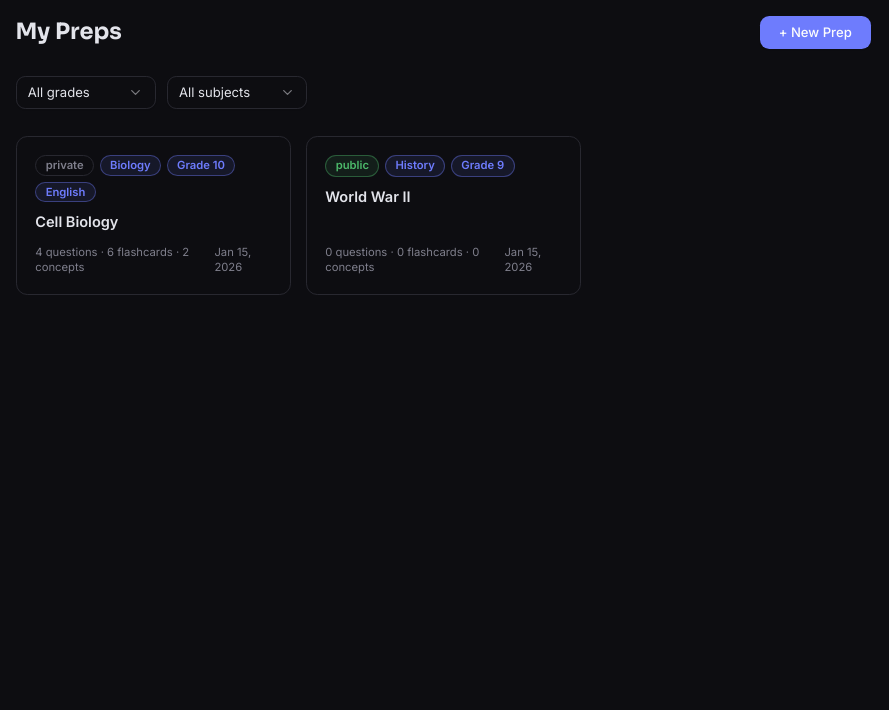
it: MyPreps › filters by discipline
The width and height of the screenshot is (889, 710).
Click the dropdown named "filter by subject".
click(237, 92)  # box [167,76,307,109]
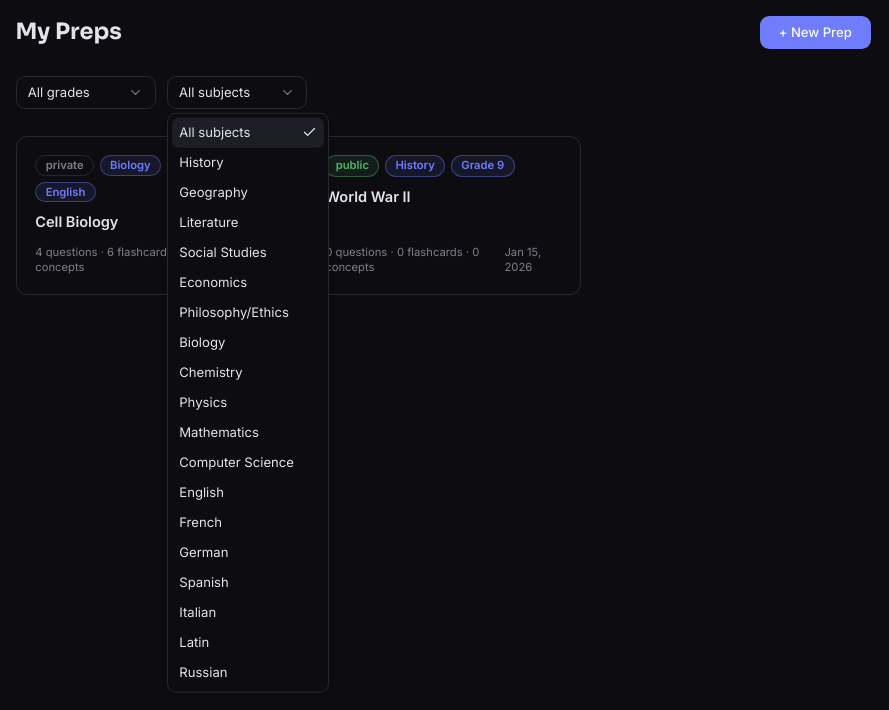
Click the option "History".
click(202, 162)  # box [179,154,224,170]
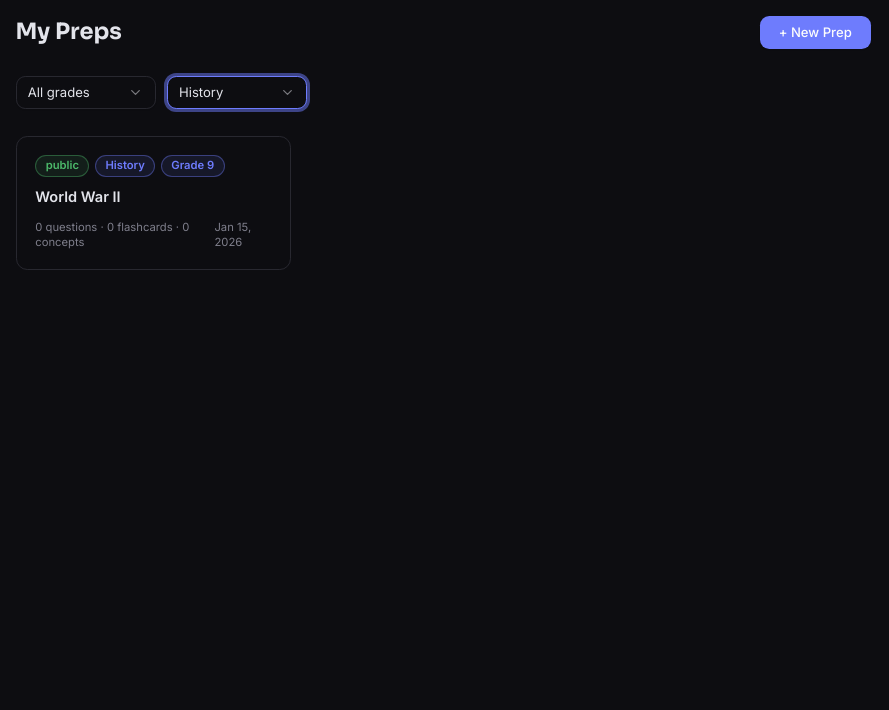
Expected: the heading "World War II" is shown, [35,188,121,206]
Now the link "Cell Biology" is gone
